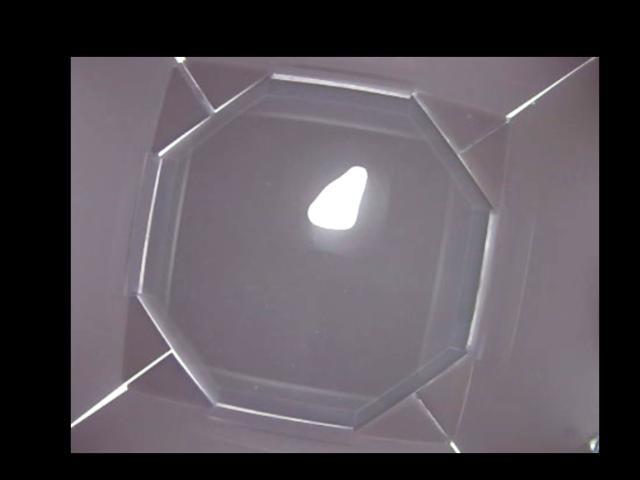Pebble: (306, 167, 367, 230)
